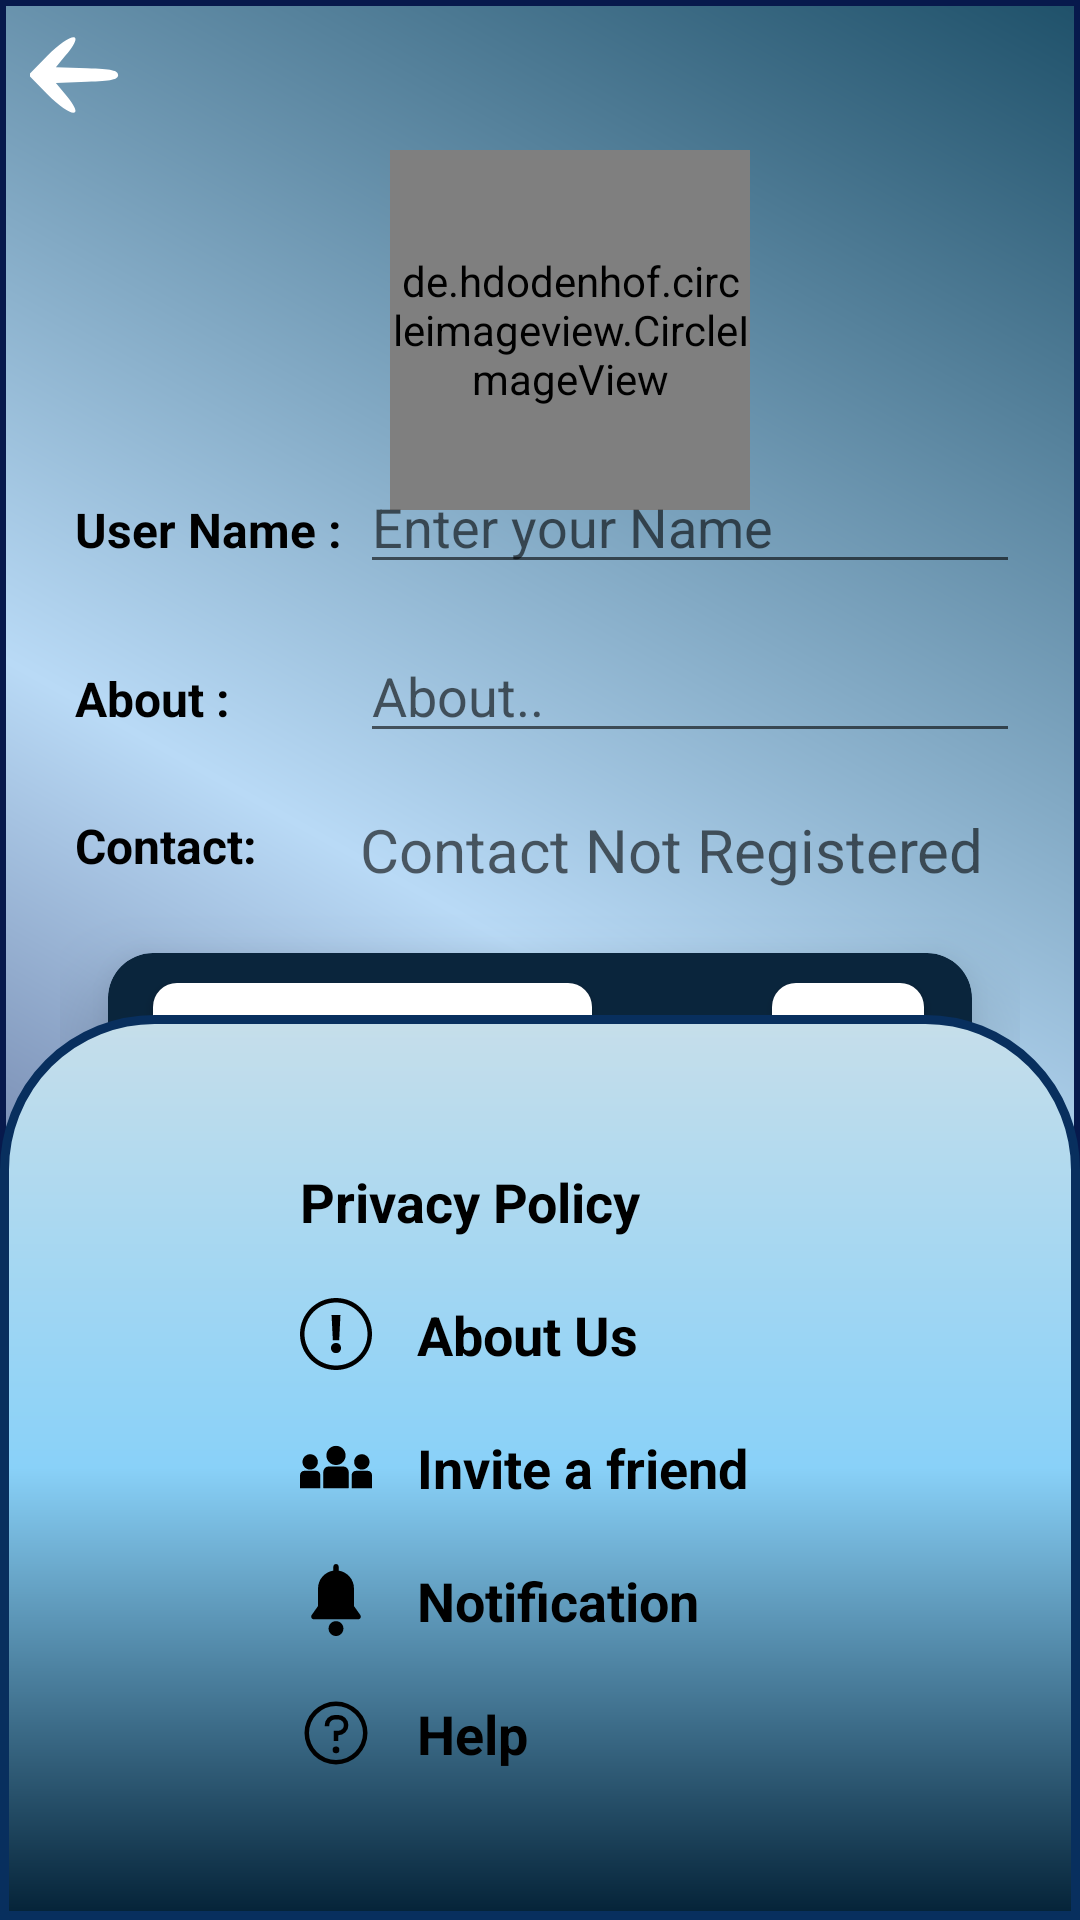

Named icons in this screenshot (1080px×1920px) and their centers, (x,y):
arrow left: (74,75)
